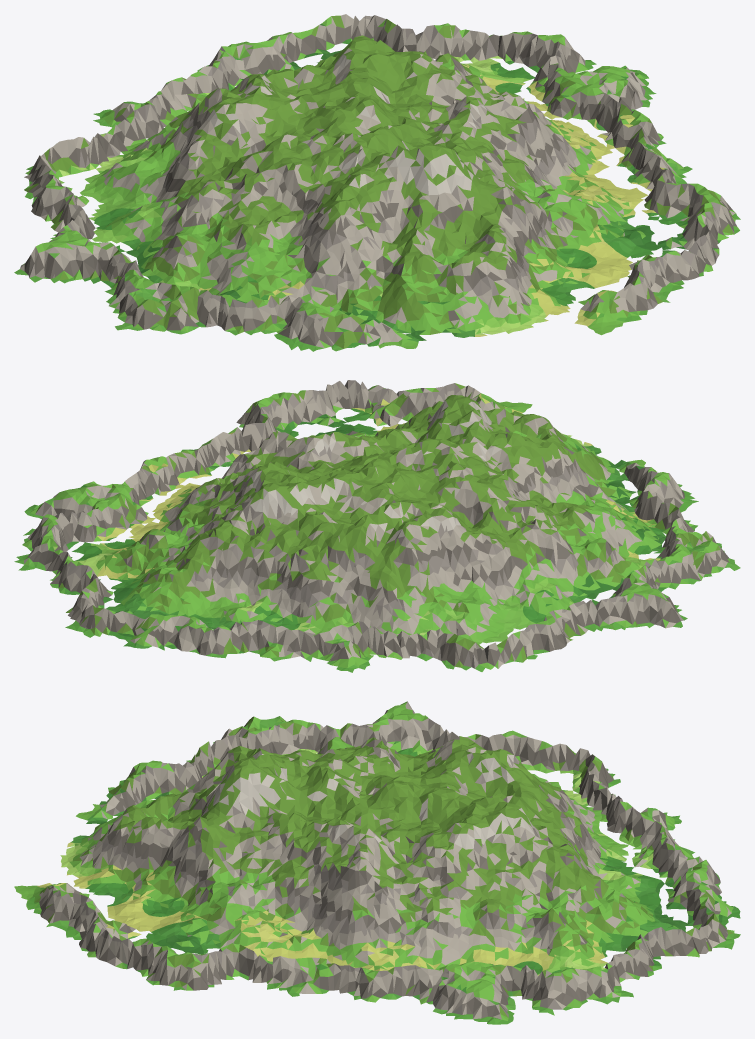
Rendered from Isl-rocky5-Relief.fbx.
The picture shows the model from 3 angles, top to bottom: view 1: azimuth 30°, elevation 25°; view 2: azimuth 150°, elevation 25°; view 3: azimuth 270°, elevation 25°; orthographic projection. The views are drawn at different scales.
Visible parts, largest first — view 1: Isl-rocky5-Relief-c11, Isl-rocky5-Relief-c21, Isl-rocky5-Relief-c22, Isl-rocky5-Relief-c12, Isl-rocky5-Relief-c20; view 2: Isl-rocky5-Relief-c22, Isl-rocky5-Relief-c12, Isl-rocky5-Relief-c11, Isl-rocky5-Relief-c21, Isl-rocky5-Relief-c20; view 3: Isl-rocky5-Relief-c21, Isl-rocky5-Relief-c22, Isl-rocky5-Relief-c11, Isl-rocky5-Relief-c12, Isl-rocky5-Relief-c32, Isl-rocky5-Relief-c20.
Part boxes in pixels (x1,y1,x2,y2): Isl-rocky5-Relief-c11: [17, 107, 525, 351]; Isl-rocky5-Relief-c21: [343, 96, 740, 328]; Isl-rocky5-Relief-c22: [197, 14, 649, 135]; Isl-rocky5-Relief-c12: [14, 66, 342, 272]; Isl-rocky5-Relief-c20: [574, 276, 670, 335]; Isl-rocky5-Relief-c22: [14, 461, 388, 658]; Isl-rocky5-Relief-c12: [254, 475, 680, 672]; Isl-rocky5-Relief-c11: [389, 397, 740, 625]; Isl-rocky5-Relief-c21: [140, 380, 524, 500]; Isl-rocky5-Relief-c20: [457, 384, 532, 413]; Isl-rocky5-Relief-c21: [53, 759, 408, 1002]; Isl-rocky5-Relief-c22: [405, 782, 740, 1014]; Isl-rocky5-Relief-c11: [60, 701, 408, 863]; Isl-rocky5-Relief-c12: [405, 701, 694, 863]; Isl-rocky5-Relief-c32: [437, 992, 554, 1024]; Isl-rocky5-Relief-c20: [14, 883, 61, 926].
Bounding box in the file's own units: 110 × 17.65 × 109.
